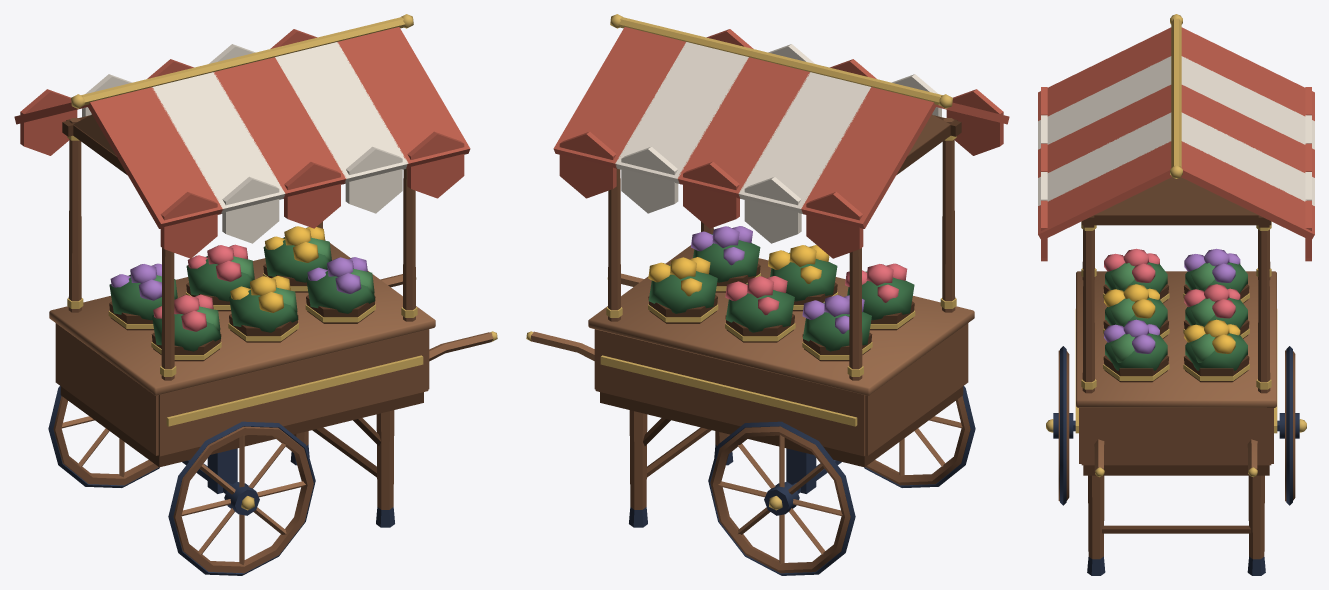
Rendered from prop_flower_cart.glb.
3 renders of one model, left to right at view 1: azimuth 30°, elevation 25°; view 2: azimuth 150°, elevation 25°; view 3: azimuth 270°, elevation 25°, orthographic. The views are drawn at different scales.
Parts seen in each view (by area): view 1: prop_flower_cart; view 2: prop_flower_cart; view 3: prop_flower_cart.
Part boxes in pixels (x1,y1,x2,y2): prop_flower_cart: [14, 14, 497, 575]; prop_flower_cart: [526, 14, 1009, 575]; prop_flower_cart: [1038, 14, 1314, 575].
Size of the model in its own units: 2.29 by 2.64 by 1.52.
